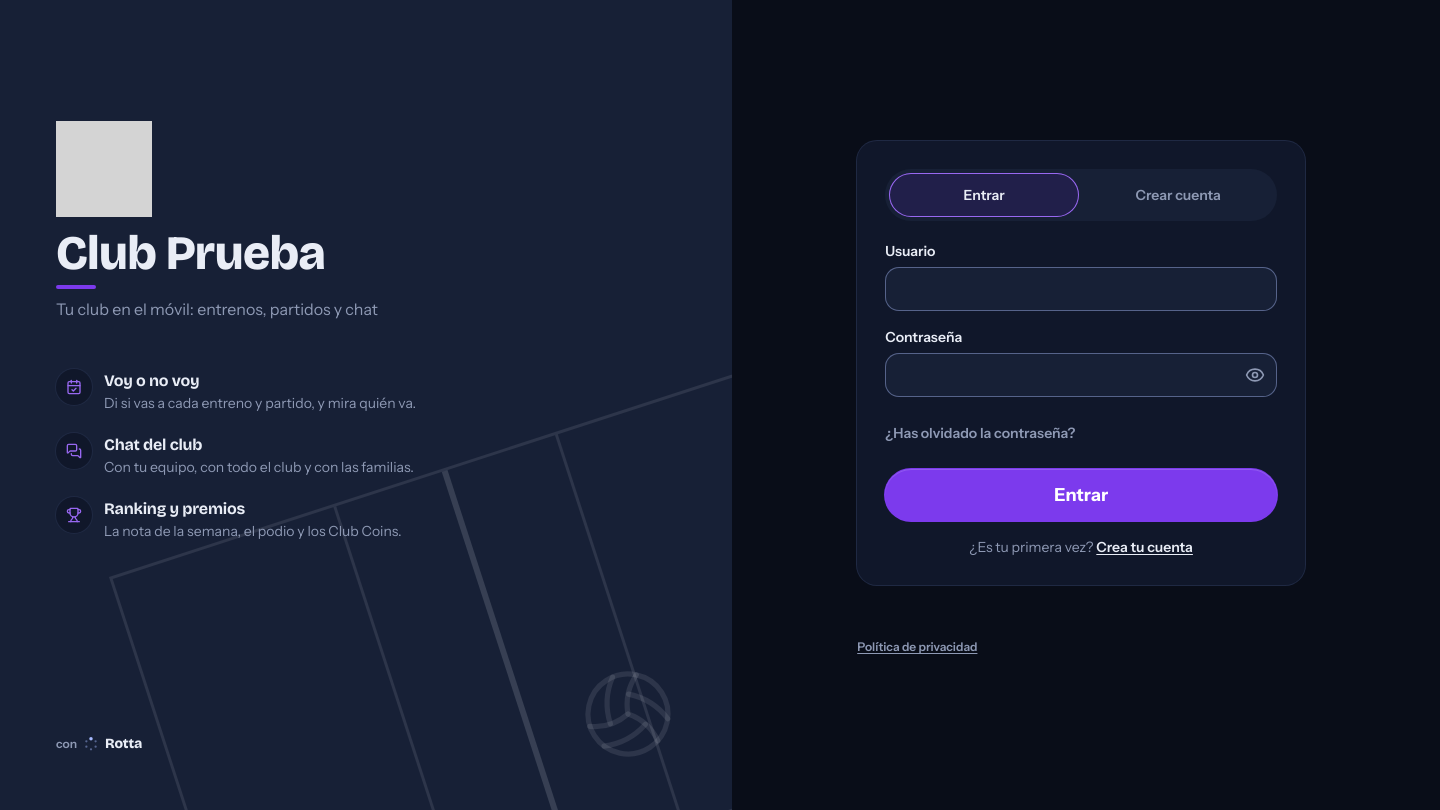
Scenario: LoginPage › entrar mal: el mensaje del servidor y se puede volver a intentar
Type "ana.prueba" into the field labelled "Usuario" at (1081, 289), box [885,267,1277,311]
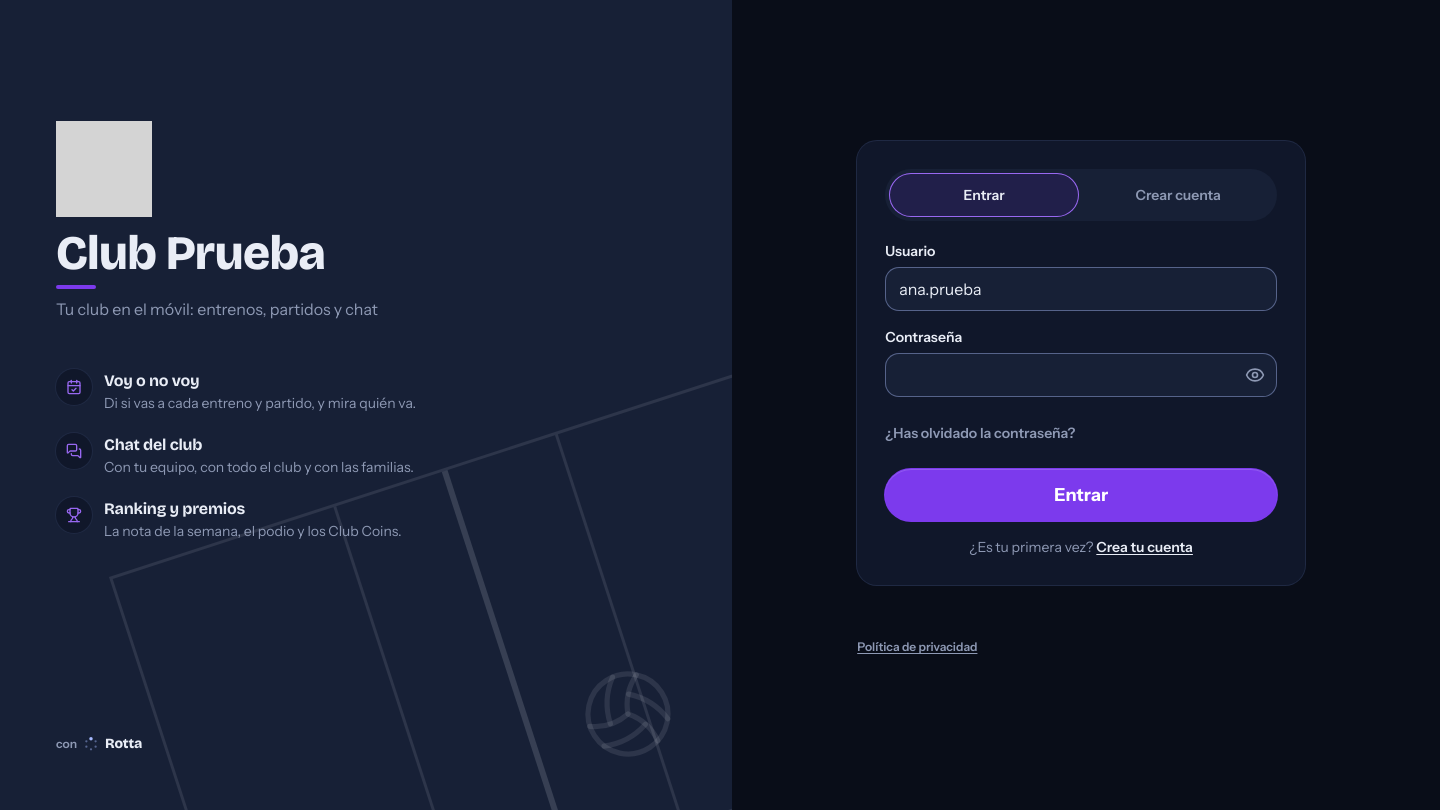
Type "mala" into the password field labelled "Contraseña" at (1081, 375), box [885,353,1277,397]
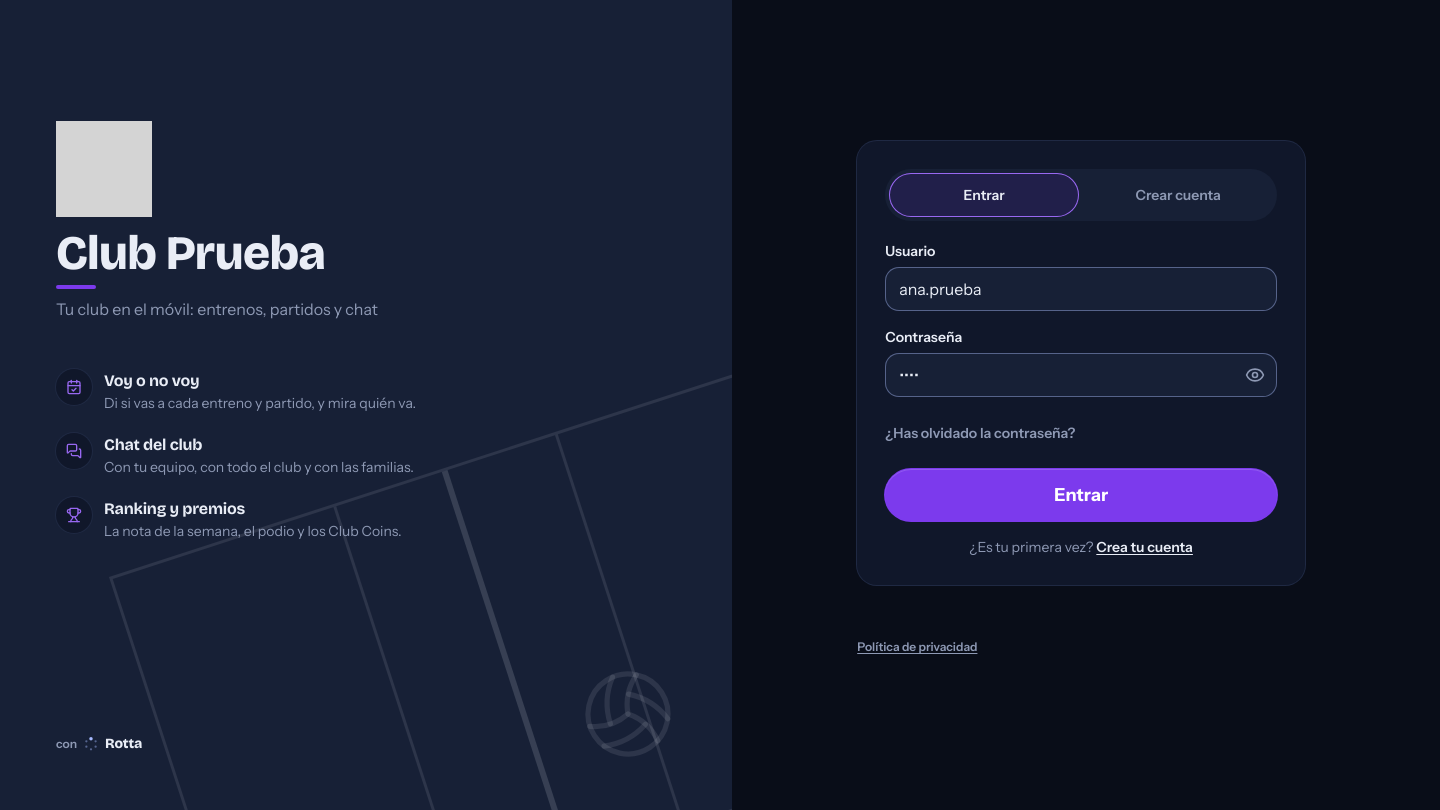
Click the button "Entrar" at (1081, 495), box [885,469,1277,521]
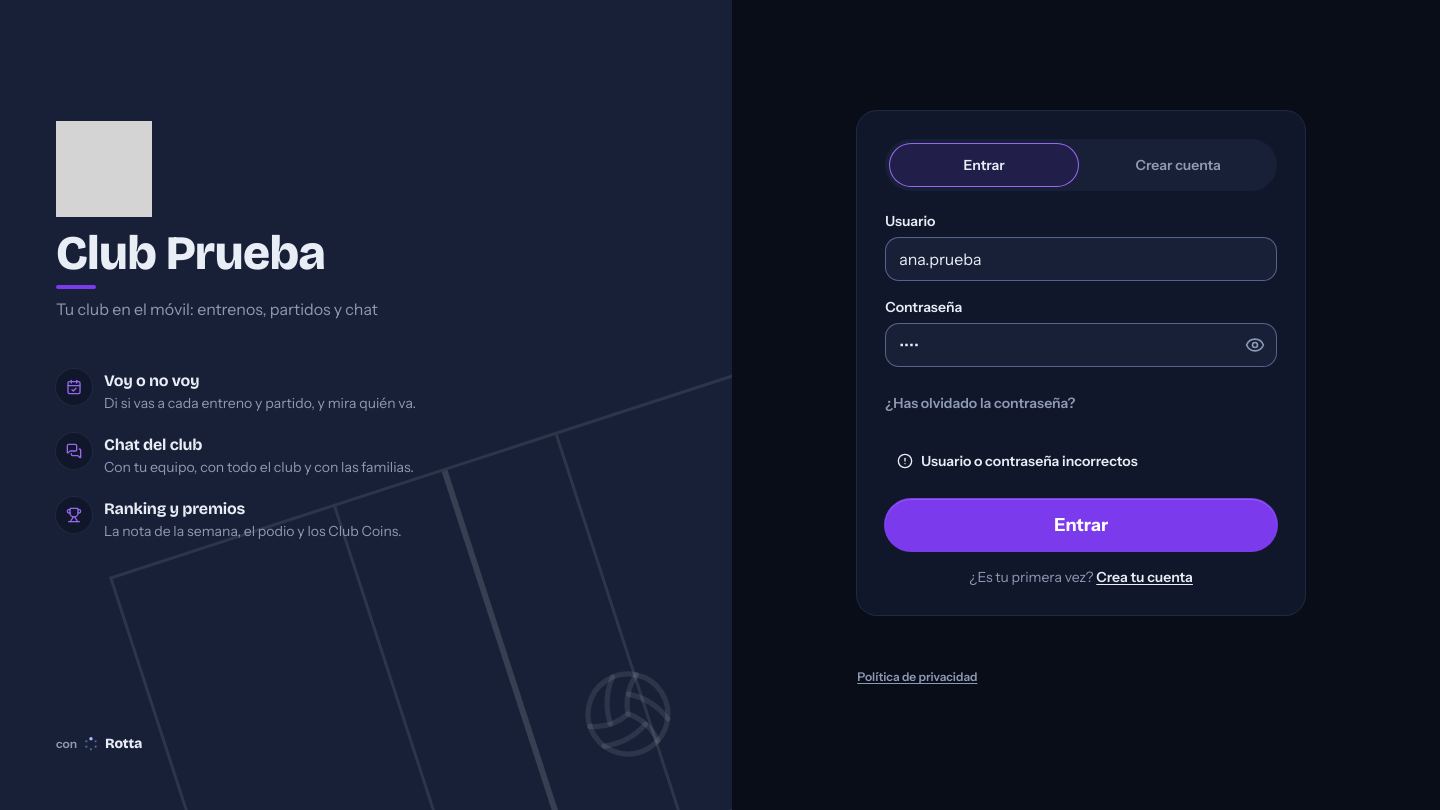
Check: the button "Entrar" is enabled, box [885,499,1277,551]
Check: the message reads "Usuario o contraseña incorrectos", box [921,452,1138,470]
